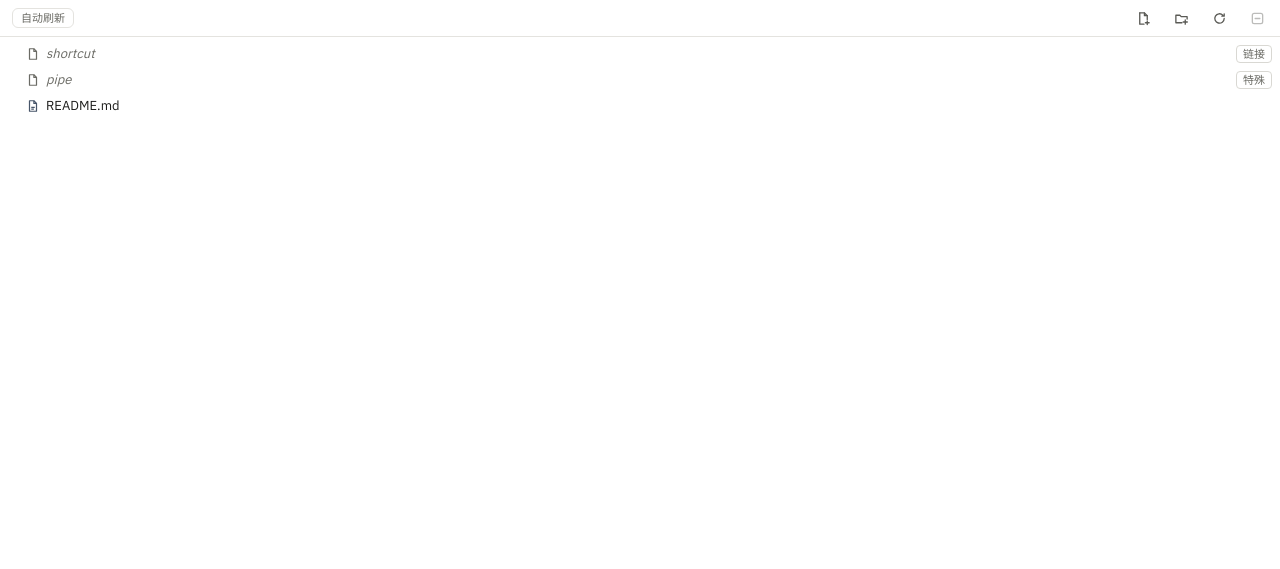
Test: opening and the tree › marks symbolic links and special files, and does not open them
Check: the list item "pipe 特殊" is shown, box top-left (0, 67), bottom-right (1279, 93)
Click the list item "shortcut 链接" at (70, 54), box top-left (0, 41), bottom-right (1279, 67)
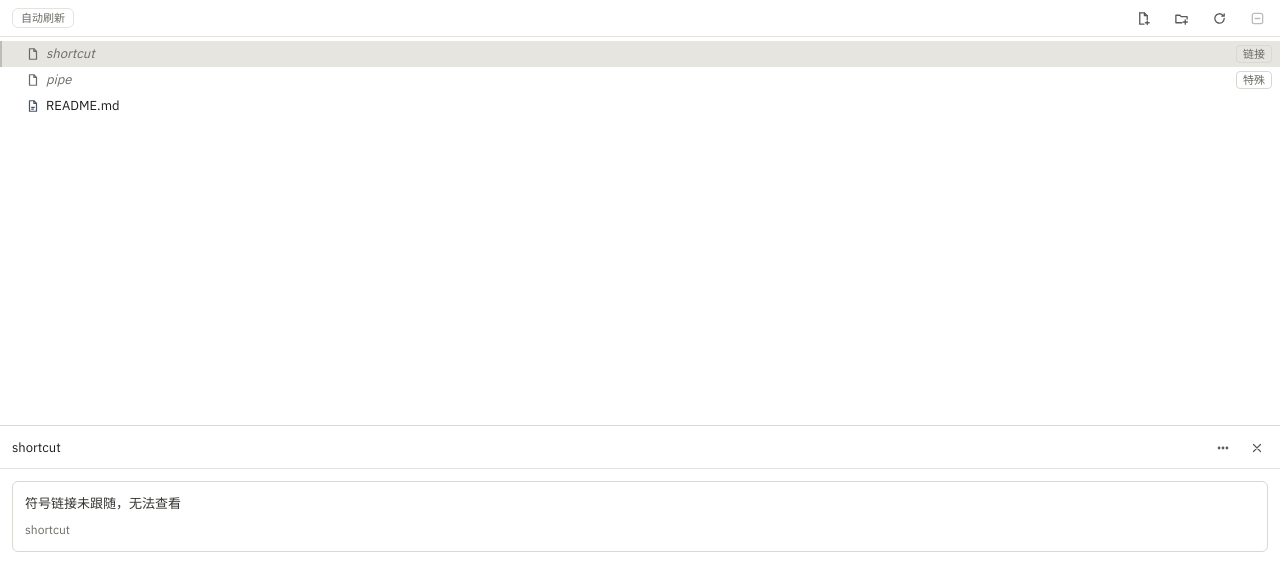
Check: the text "符号链接未跟随，无法查看" is shown, box top-left (25, 494), bottom-right (181, 513)
Click the list item "pipe 特殊" at (1254, 80), box top-left (0, 67), bottom-right (1279, 93)
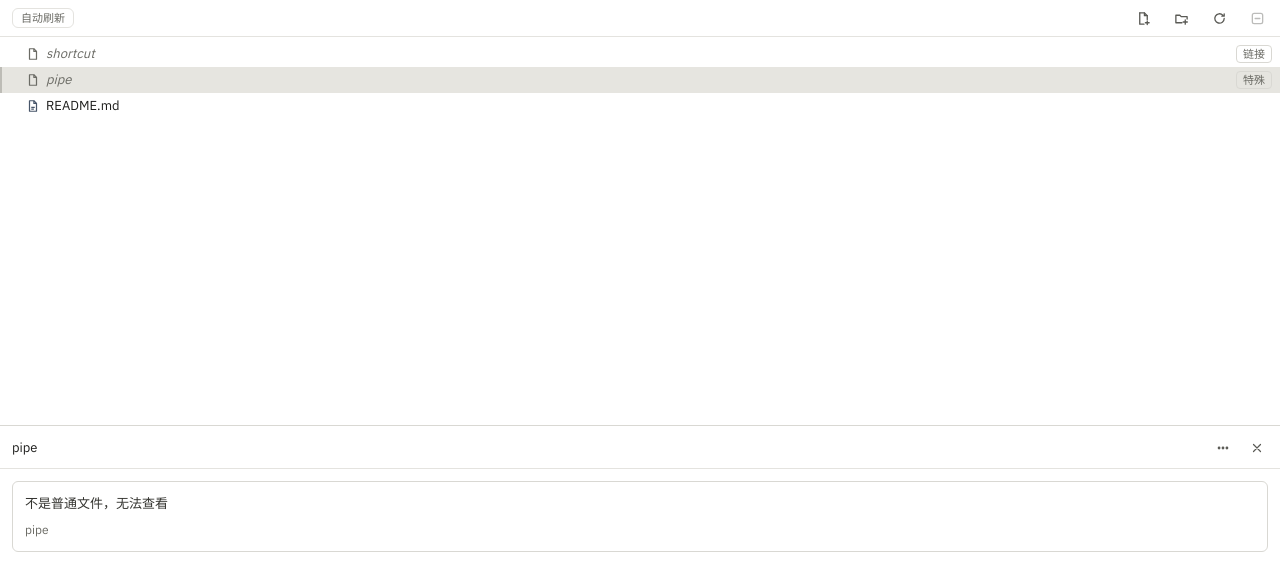
Check: the text "不是普通文件，无法查看" is shown, box top-left (25, 494), bottom-right (168, 513)
